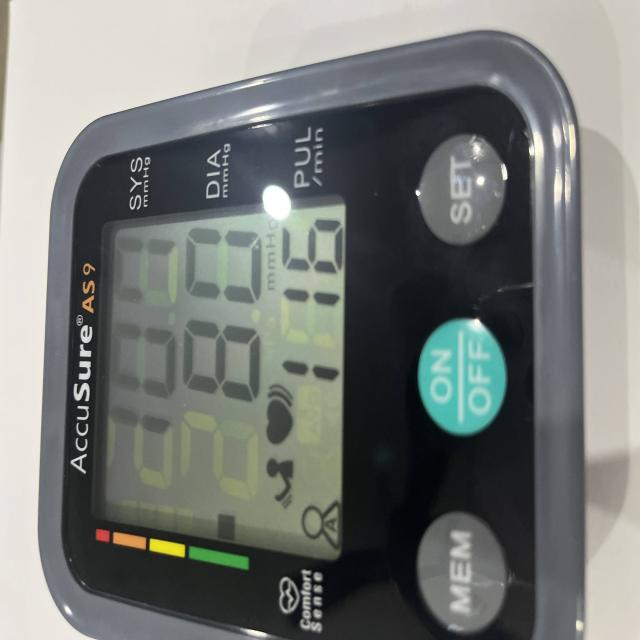bp: (0, 6, 637, 640)
